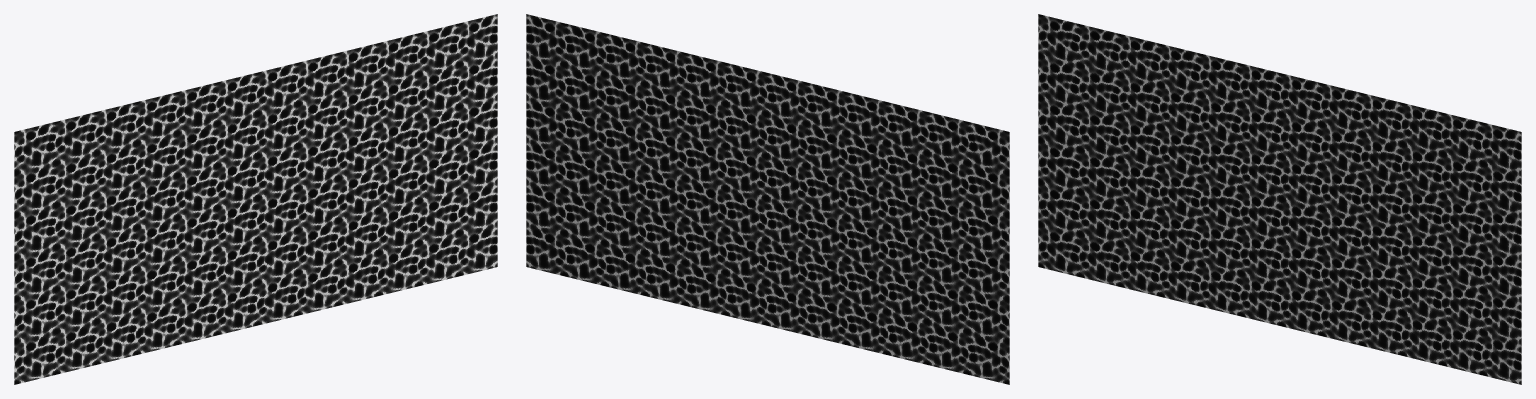
File: water.glb
3 views of the same model, side by side, from view 1: azimuth 30°, elevation 25°; view 2: azimuth 150°, elevation 25°; view 3: azimuth 330°, elevation 25° (orthographic).
Visible parts, largest first — view 1: agua.001; view 2: agua.001; view 3: agua.001.
Boxes of the visible parts, x1,y1,x2,y2 form: agua.001: (14,14,497,384); agua.001: (526,14,1009,384); agua.001: (1038,14,1521,384).
Bounding box in the file's own units: 30 × 15 × 6.1e-07.
1 material, 1 textured.
